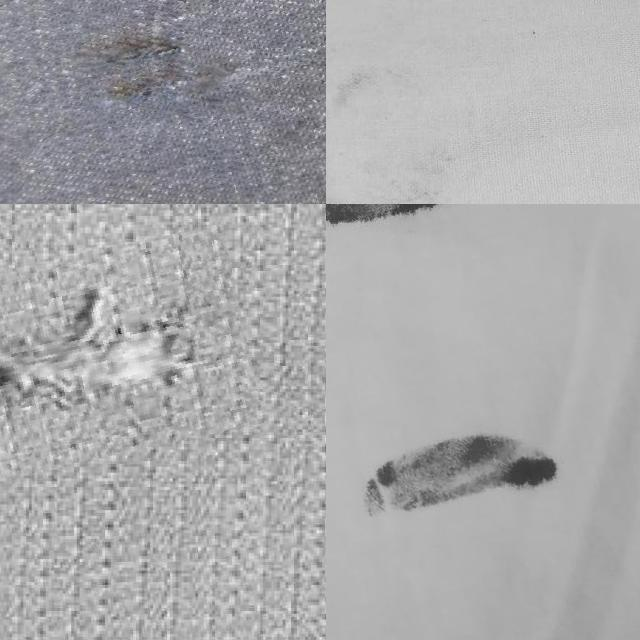Hole: (326, 204, 640, 640), (326, 368, 574, 576), (326, 0, 519, 204), (326, 204, 582, 282)
seam: (0, 238, 253, 472)
